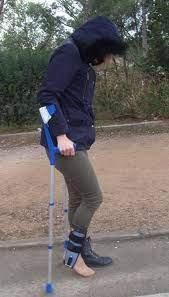crutches: (37, 17, 129, 293)
